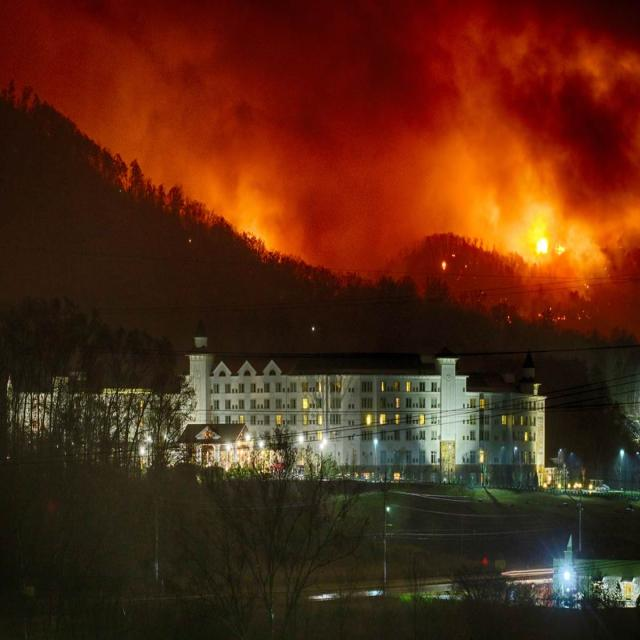Fire: (479, 209, 585, 284)
Smoke: (106, 10, 634, 263)
